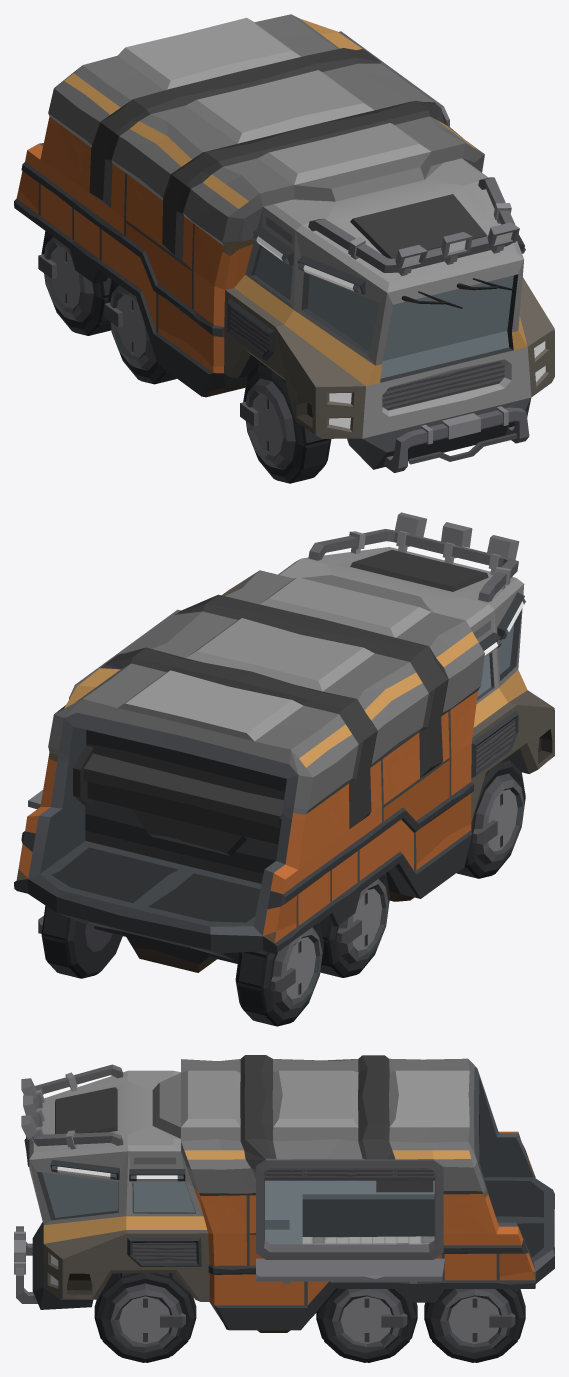
The model's file is SM_Veh_Garbage_01_Modified.fbx.
3 renders of one model, top to bottom at view 1: azimuth 30°, elevation 25°; view 2: azimuth 150°, elevation 25°; view 3: azimuth 270°, elevation 25°, orthographic. The views are drawn at different scales.
Parts seen in each view (by area): view 1: SM_Veh_Garbage_01, SM_Veh_Garbage_01_Glass, SM_Veh_Garbage_01_Wheel_fr; view 2: SM_Veh_Garbage_01, SM_Veh_Garbage_01_Wheel_fr, SM_Veh_Garbage_01_Glass; view 3: SM_Veh_Garbage_01, SM_Bld_FoodHole_01, SM_Veh_Garbage_01_Wheel_fl, SM_Veh_Garbage_01_Glass.
Boxes of the visible parts, x1,y1,x2,y2 form: SM_Veh_Garbage_01: (14, 14, 554, 472); SM_Veh_Garbage_01_Glass: (254, 246, 513, 378); SM_Veh_Garbage_01_Wheel_fr: (240, 362, 331, 483); SM_Veh_Garbage_01: (14, 512, 554, 1026); SM_Veh_Garbage_01_Wheel_fr: (456, 758, 525, 878); SM_Veh_Garbage_01_Glass: (477, 623, 514, 696); SM_Veh_Garbage_01: (14, 1055, 554, 1362); SM_Bld_FoodHole_01: (256, 1158, 445, 1292); SM_Veh_Garbage_01_Wheel_fl: (94, 1273, 196, 1362); SM_Veh_Garbage_01_Glass: (42, 1172, 194, 1217).
Size of the model in its own units: 335 by 285 by 623.
